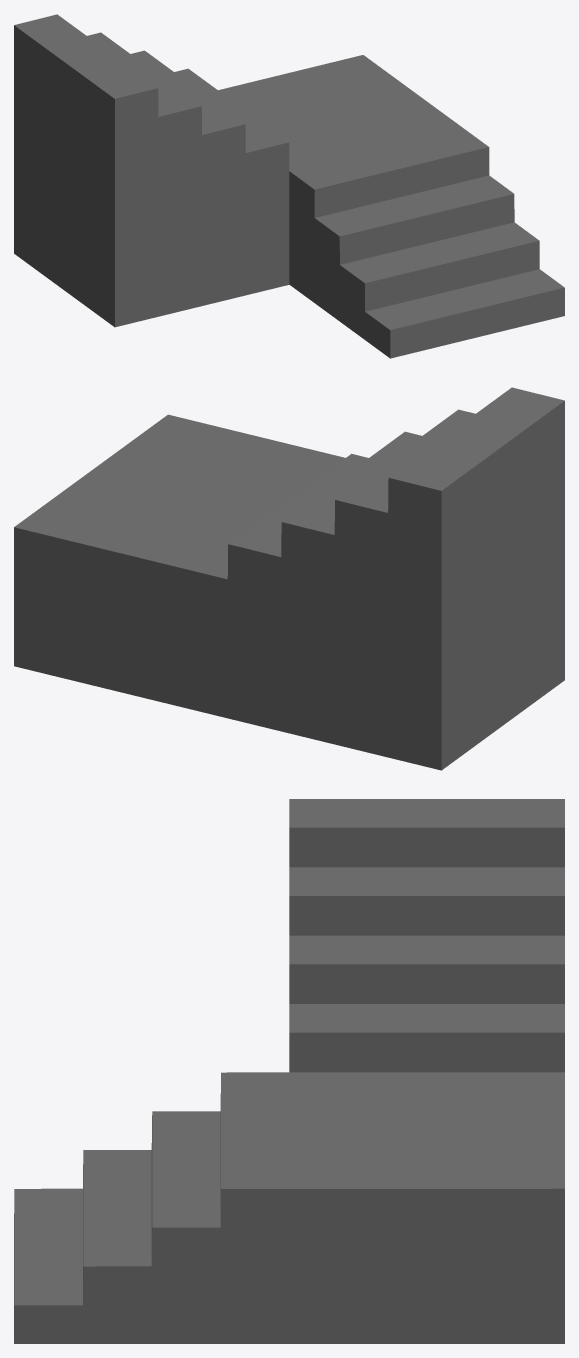
Rendered from Stairs 01.FBX.
3 views of the same model, one above another, from view 1: azimuth 30°, elevation 25°; view 2: azimuth 150°, elevation 25°; view 3: azimuth 270°, elevation 25° (orthographic). The views are drawn at different scales.
Parts seen in each view (by area): view 1: Stairs 01; view 2: Stairs 01; view 3: Stairs 01.
Boxes of the visible parts, x1,y1,x2,y2 form: Stairs 01: [14, 14, 564, 358]; Stairs 01: [14, 387, 564, 770]; Stairs 01: [14, 799, 564, 1343].
Size of the model in its own units: 400 by 250 by 400.
